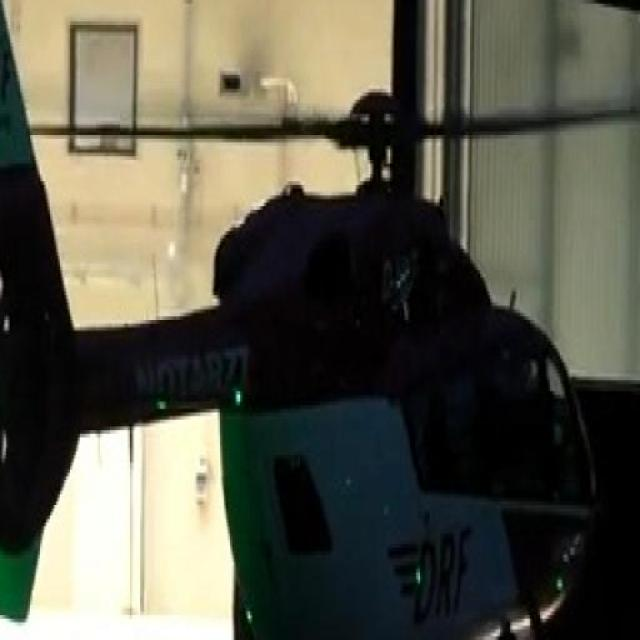drone: (0, 0, 610, 640)
